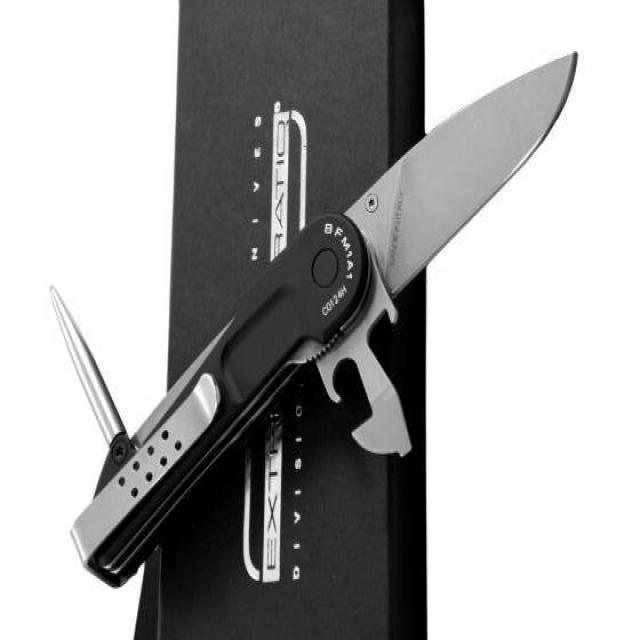knife: (71, 55, 576, 584)
